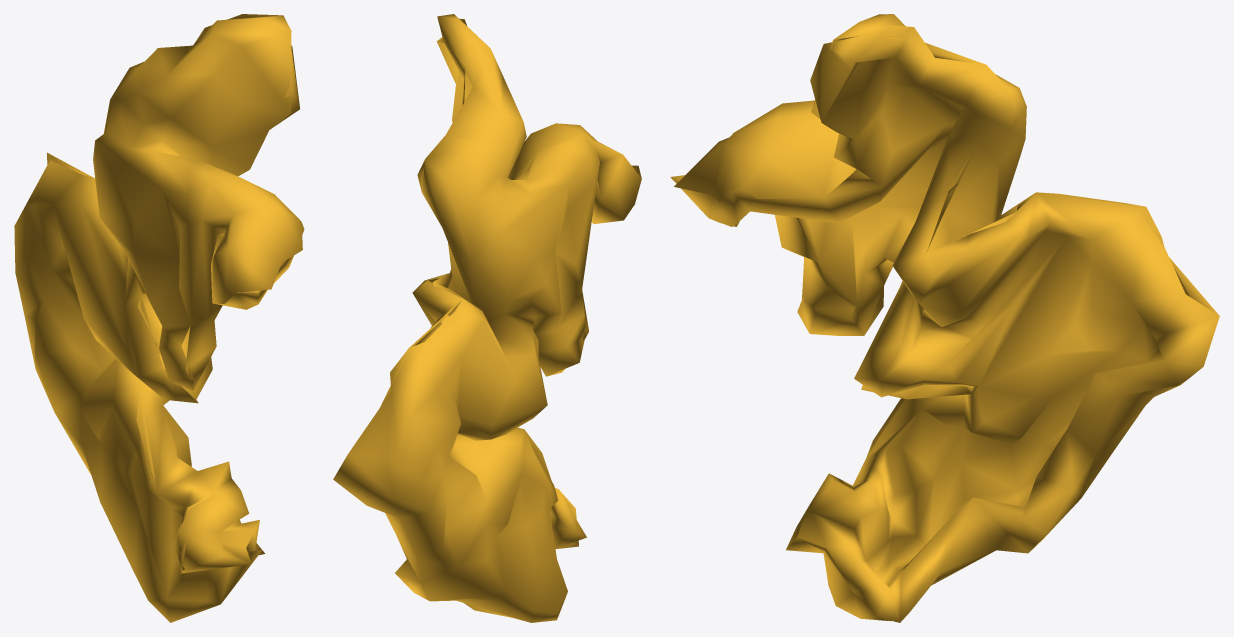
Rendered from nervoso-precuneus-l.glb.
The picture shows the model from 3 angles, left to right: view 1: azimuth 30°, elevation 25°; view 2: azimuth 150°, elevation 25°; view 3: azimuth 270°, elevation 25°; orthographic projection. The views are drawn at different scales.
Visible parts, largest first — view 1: Precuneus.l; view 2: Precuneus.l; view 3: Precuneus.l.
Boxes of the visible parts, x1,y1,x2,y2 form: Precuneus.l: [14, 14, 304, 622]; Precuneus.l: [333, 14, 641, 622]; Precuneus.l: [670, 14, 1219, 622].
Bounding box in the file's own units: 0.0164 × 0.0678 × 0.0539.
